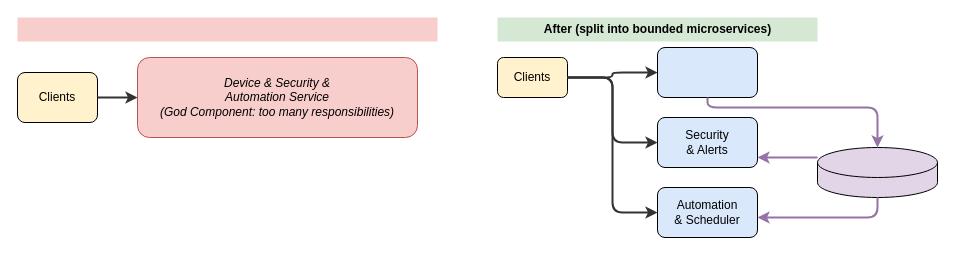
Some shapes in this 955 by 255 pixel diagram are drawn without their labels. Each missing label, with the centre of its shape:
"Before (God Component: single component does too much)" belongs at point 227,29.
"Device Manager" belongs at point 707,72.
"Event Bus" belongs at point 877,172.
